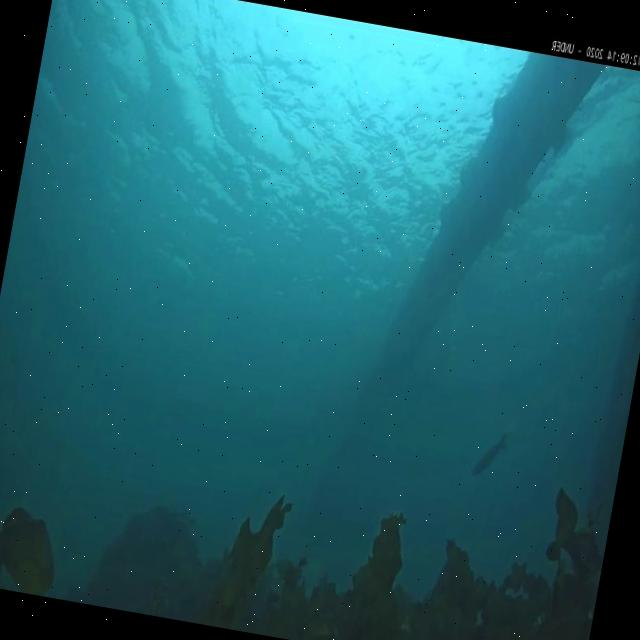fish: (467, 426, 510, 484)
